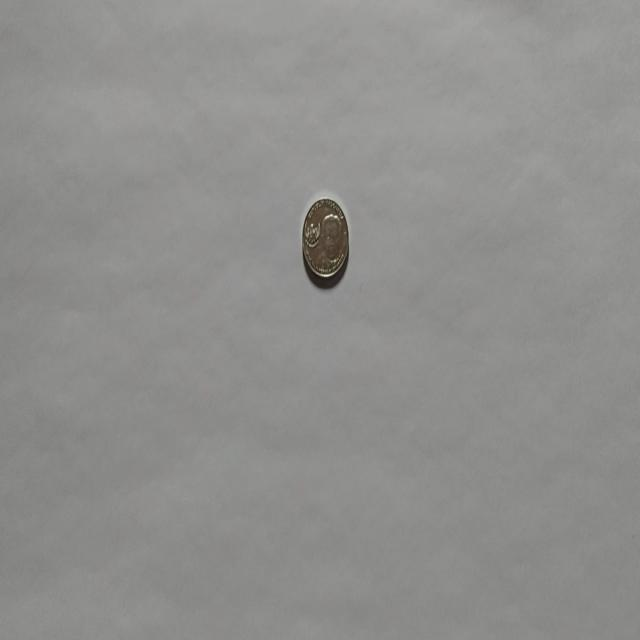seratus rupiah: (301, 196, 349, 286)
